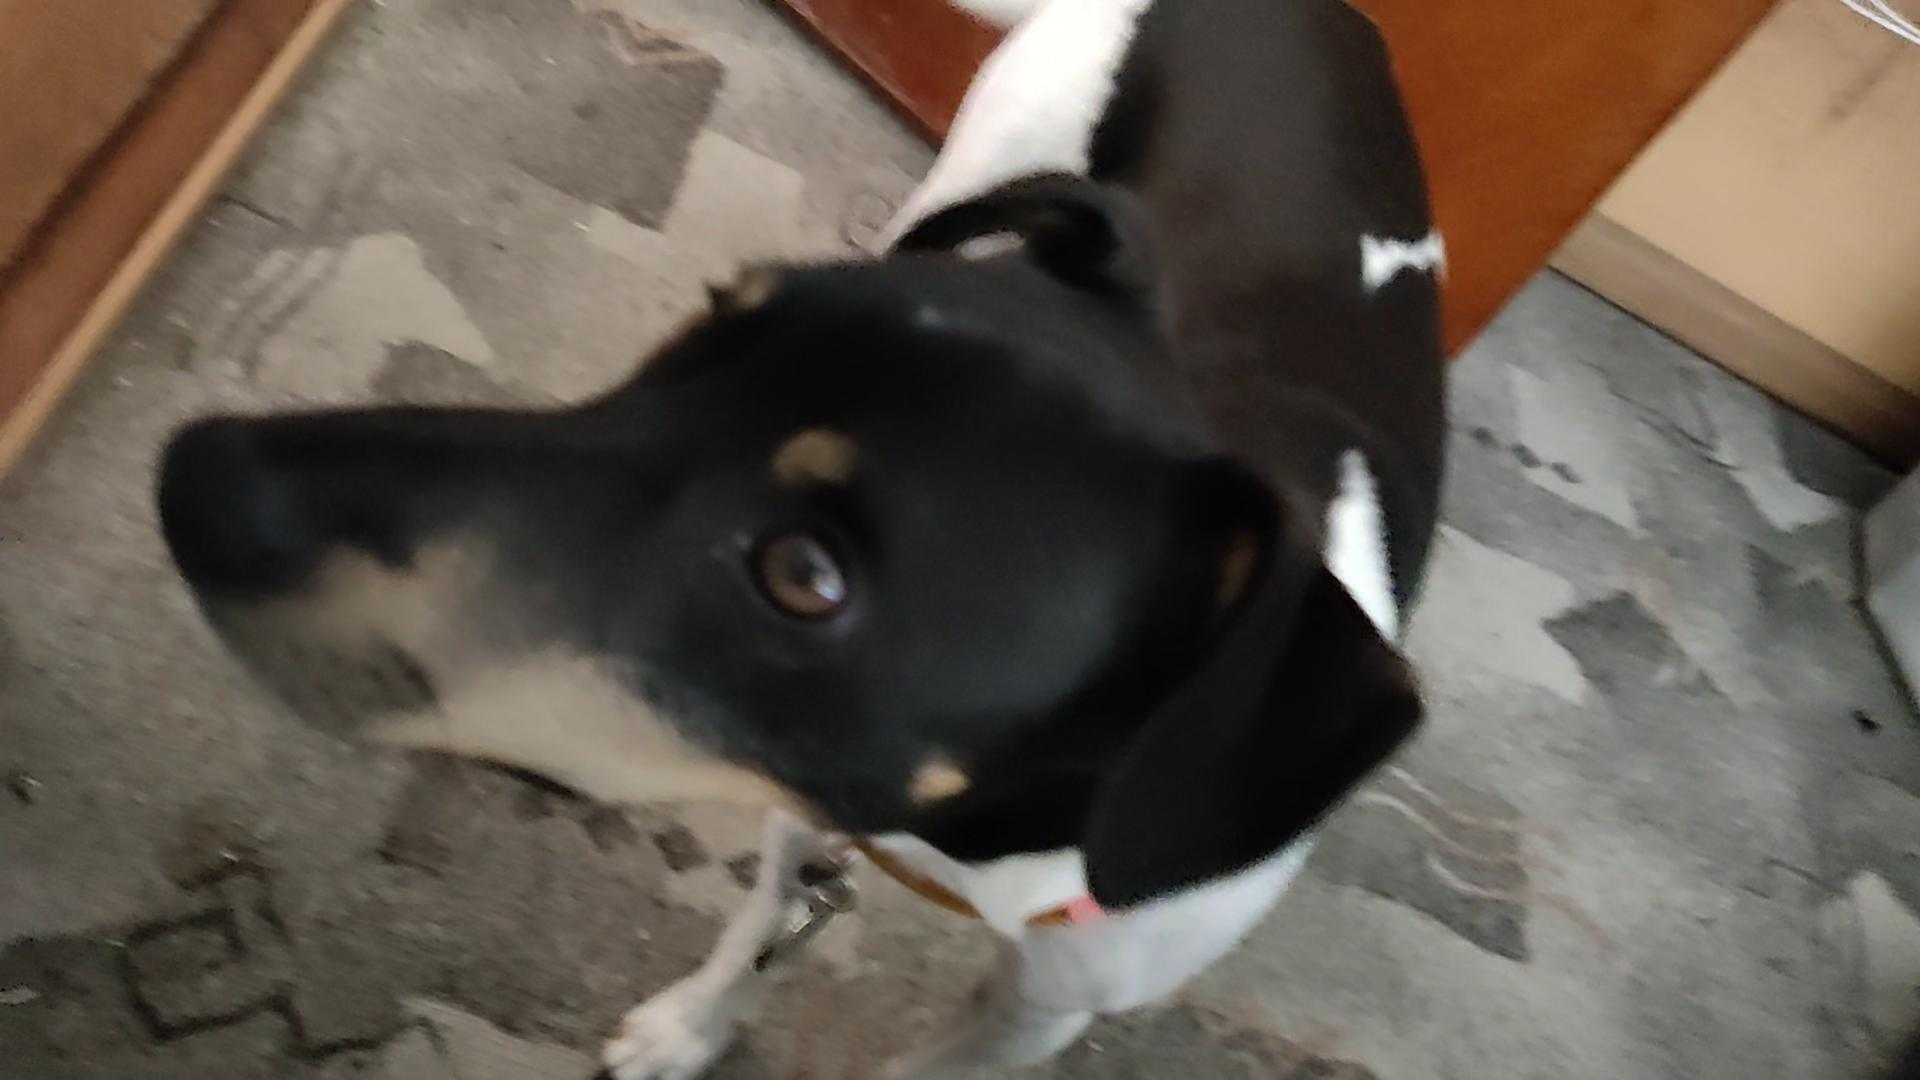Dog: (142, 0, 1457, 1079)
